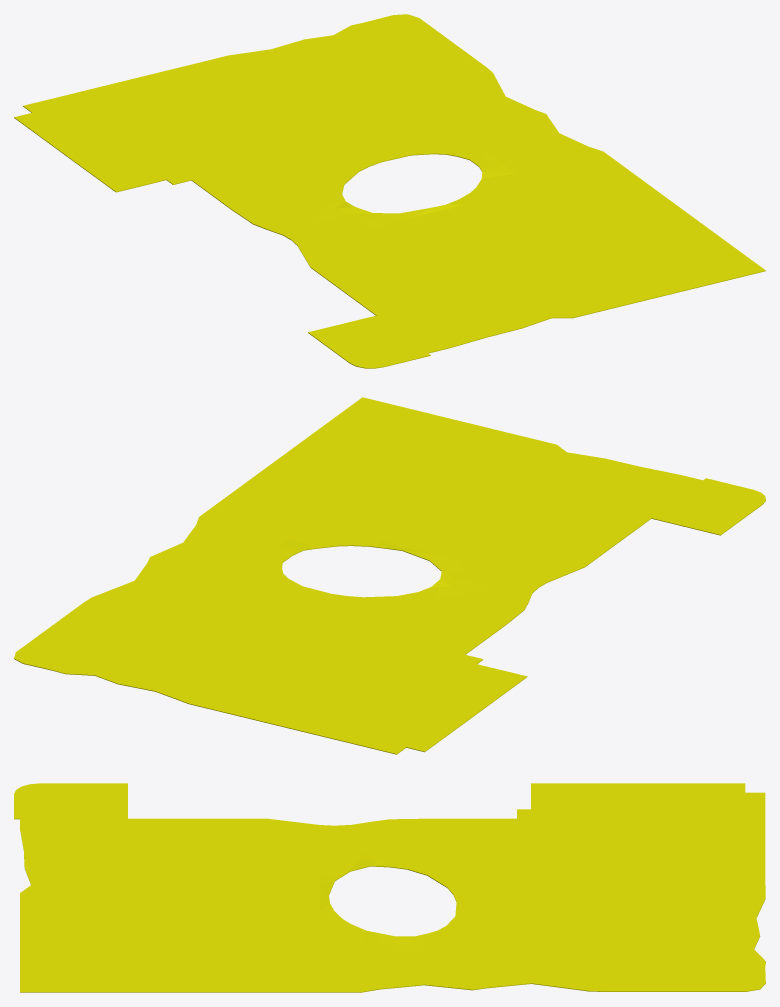
Rendered from sm_hana_building_7f_ceiling.glb.
3 views of the same model, one above another, from view 1: azimuth 30°, elevation 25°; view 2: azimuth 150°, elevation 25°; view 3: azimuth 270°, elevation 25° (orthographic). The views are drawn at different scales.
Parts seen in each view (by area): view 1: sm_hana_building_7f_ceiling; view 2: sm_hana_building_7f_ceiling; view 3: sm_hana_building_7f_ceiling.
Boxes of the visible parts, bbox=[...] form: sm_hana_building_7f_ceiling: bbox=[14, 14, 765, 368]; sm_hana_building_7f_ceiling: bbox=[14, 397, 765, 754]; sm_hana_building_7f_ceiling: bbox=[14, 783, 765, 992].
Bounding box in the file's own units: 64.62 × 0.2523 × 98.43.
Materials: 1 (1 with a texture image).
